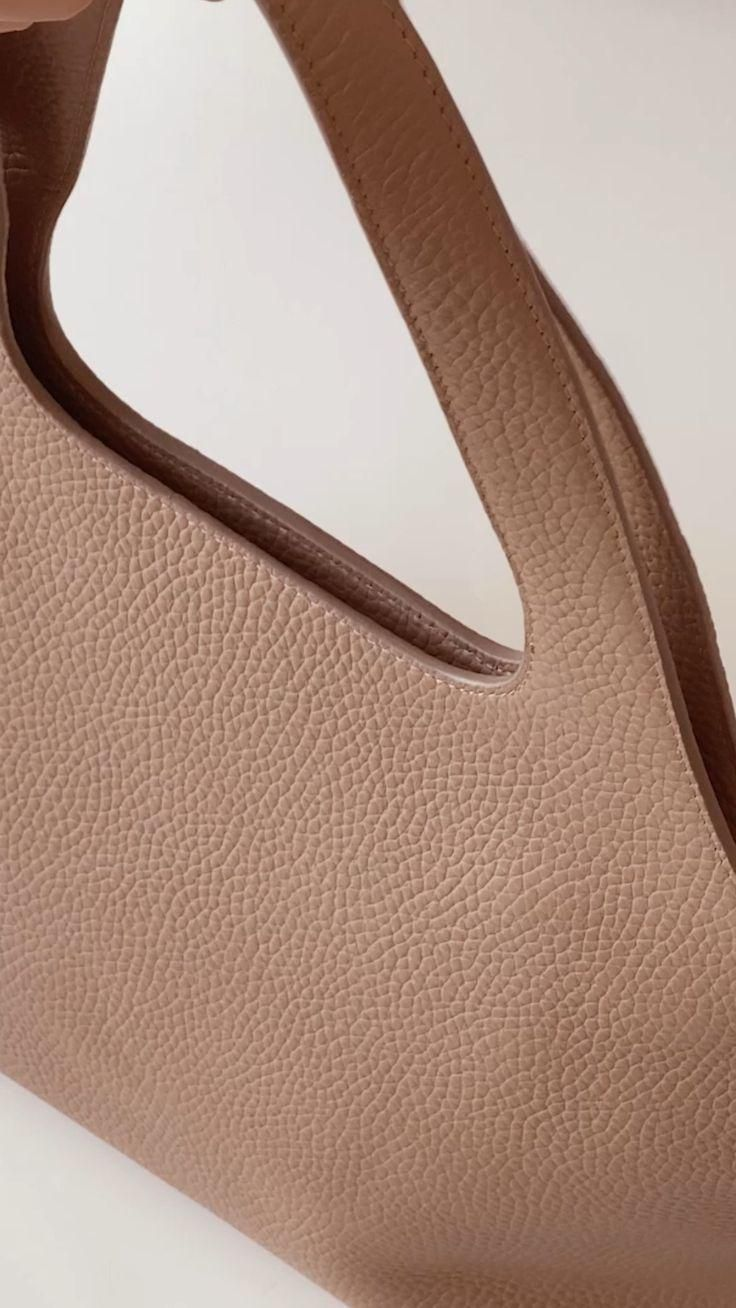cuero: (6, 4, 736, 1308)
